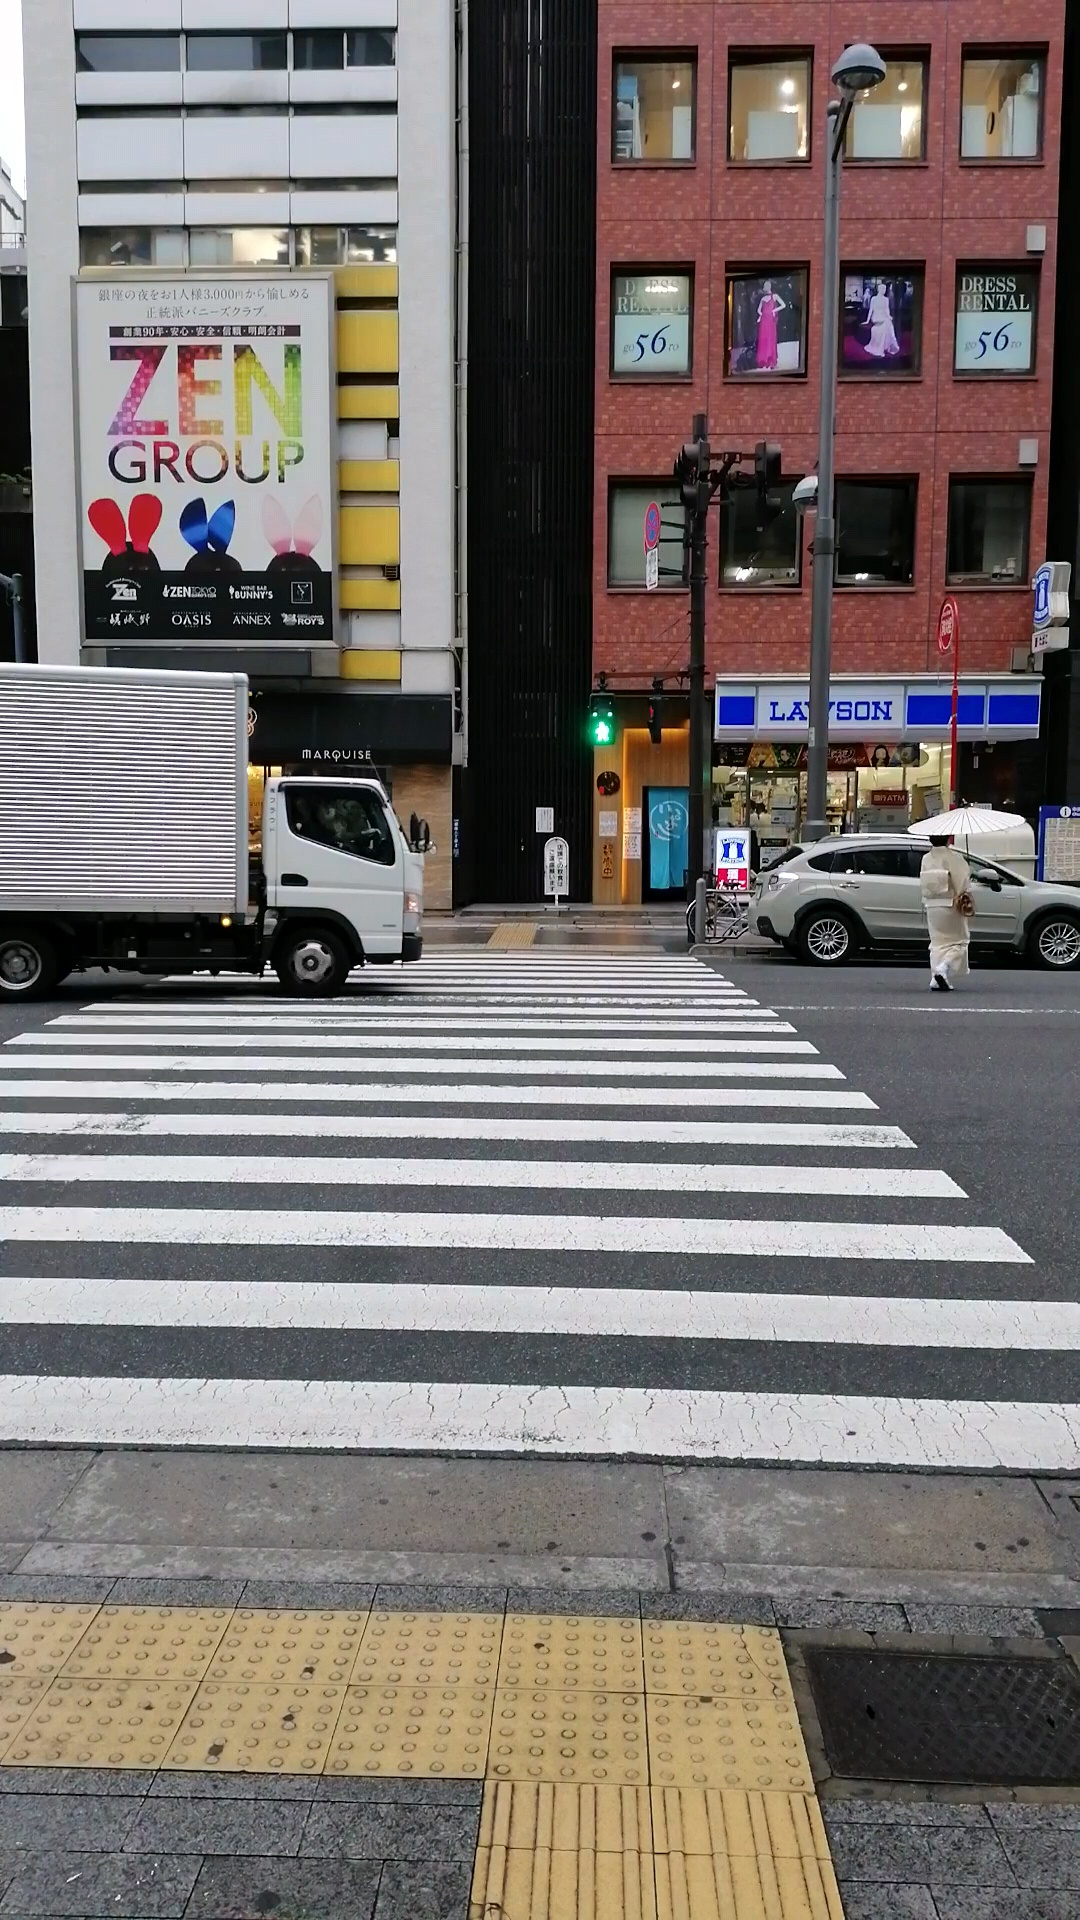green: (585, 691, 615, 746)
